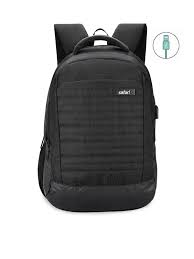backpack: (37, 23, 158, 212)
